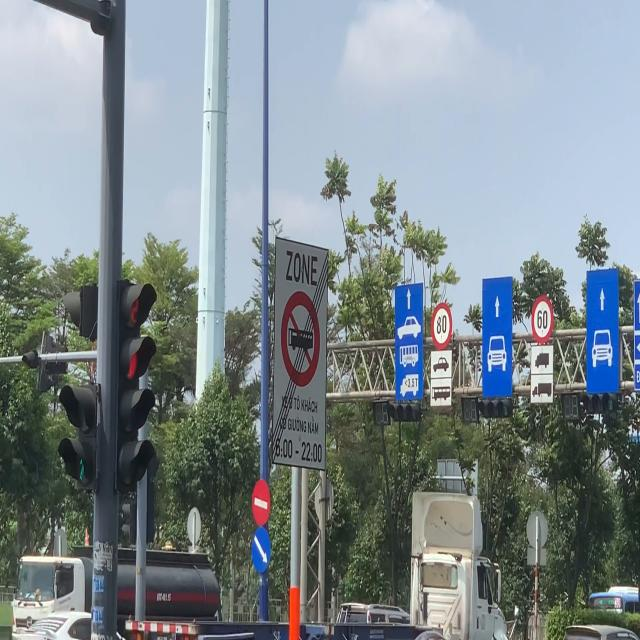Cam con lai: (280, 289, 320, 387)
Cam nguoc chieu: (250, 478, 272, 526)
Hieu lenh: (251, 525, 272, 575)
Toc do toi da: (532, 293, 553, 344), (431, 302, 452, 348)
